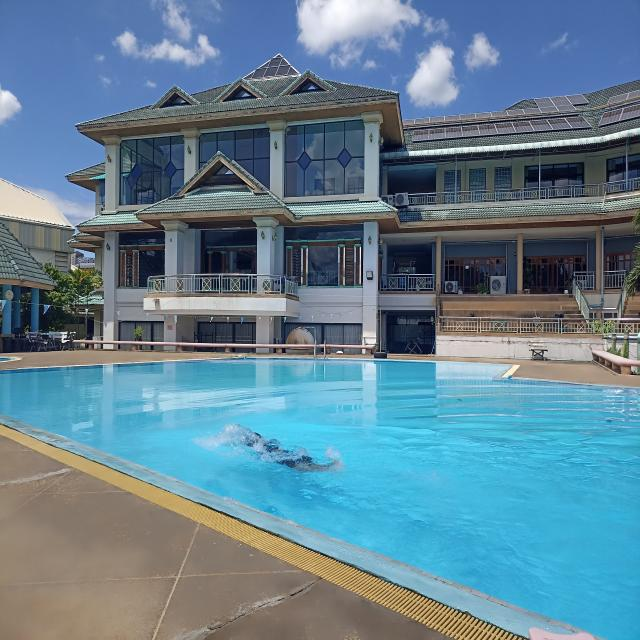Swimming: (219, 420, 355, 488)
